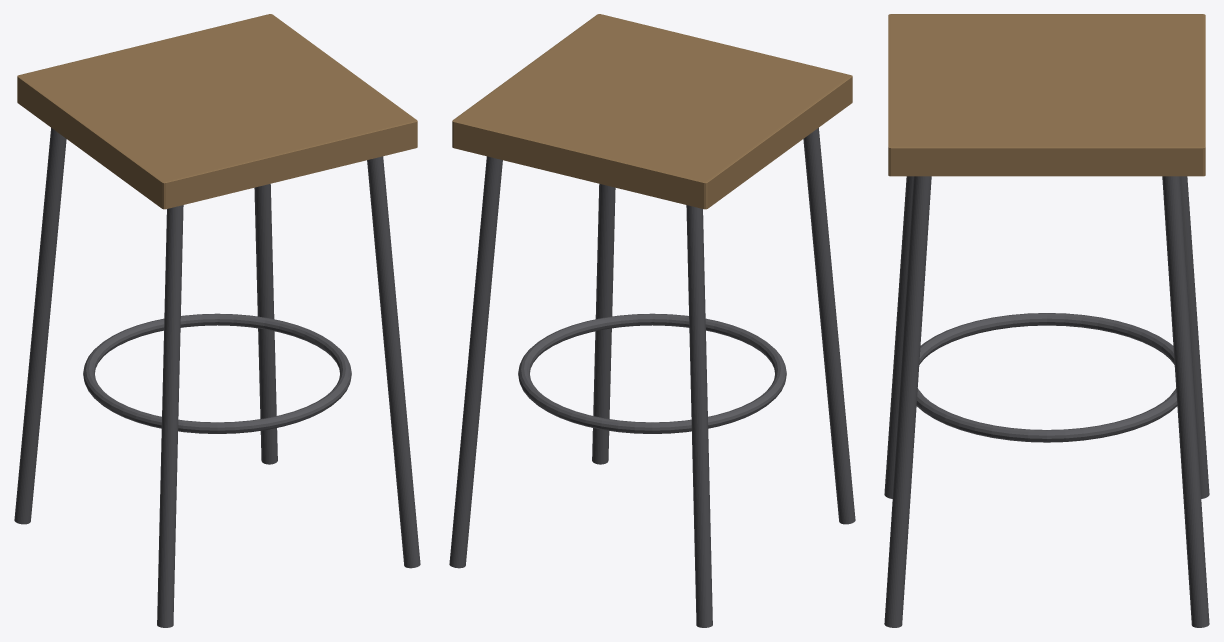
The model's file is counter_stool_candidate.glb.
The picture shows the model from 3 angles, left to right: view 1: azimuth 30°, elevation 25°; view 2: azimuth 150°, elevation 25°; view 3: azimuth 270°, elevation 25°; orthographic projection. The views are drawn at different scales.
Visible parts, largest first — view 1: Cube, Cylinder, Cylinder.002, Torus, Cylinder.001, Cylinder.003; view 2: Cube, Cylinder.001, Cylinder.003, Torus, Cylinder, Cylinder.002; view 3: Cube, Cylinder.002, Cylinder.003, Torus, Cylinder.001, Cylinder.
Part boxes in pixels (<box>): Cube: <box>17,14,417,209</box>; Cylinder: <box>157,205,183,627</box>; Cylinder.002: <box>367,156,420,568</box>; Torus: <box>83,313,351,433</box>; Cylinder.001: <box>14,128,66,524</box>; Cylinder.003: <box>254,184,277,464</box>; Cube: <box>452,14,852,209</box>; Cylinder.001: <box>686,205,712,627</box>; Cylinder.003: <box>449,156,502,568</box>; Torus: <box>518,313,786,433</box>; Cylinder: <box>803,128,855,524</box>; Cylinder.002: <box>592,184,615,464</box>; Cube: <box>888,14,1205,176</box>; Cylinder.002: <box>884,176,931,627</box>; Cylinder.003: <box>1162,176,1209,627</box>; Torus: <box>916,313,1177,442</box>; Cylinder.001: <box>1180,176,1209,498</box>; Cylinder: <box>884,176,913,498</box>.
Bounding box in the file's own units: 0.3901 × 0.6349 × 0.3901.
